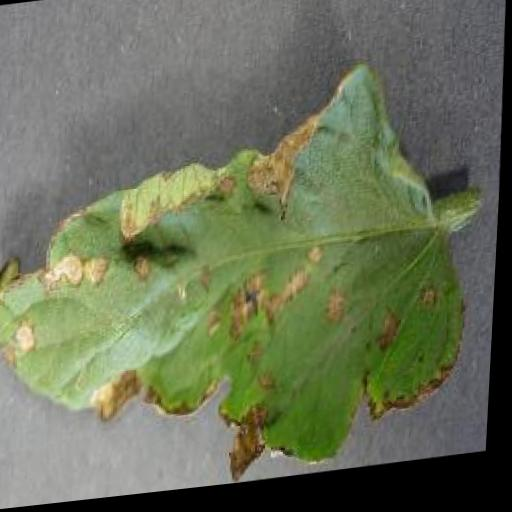Bacterial Spot: (0, 54, 488, 512)
